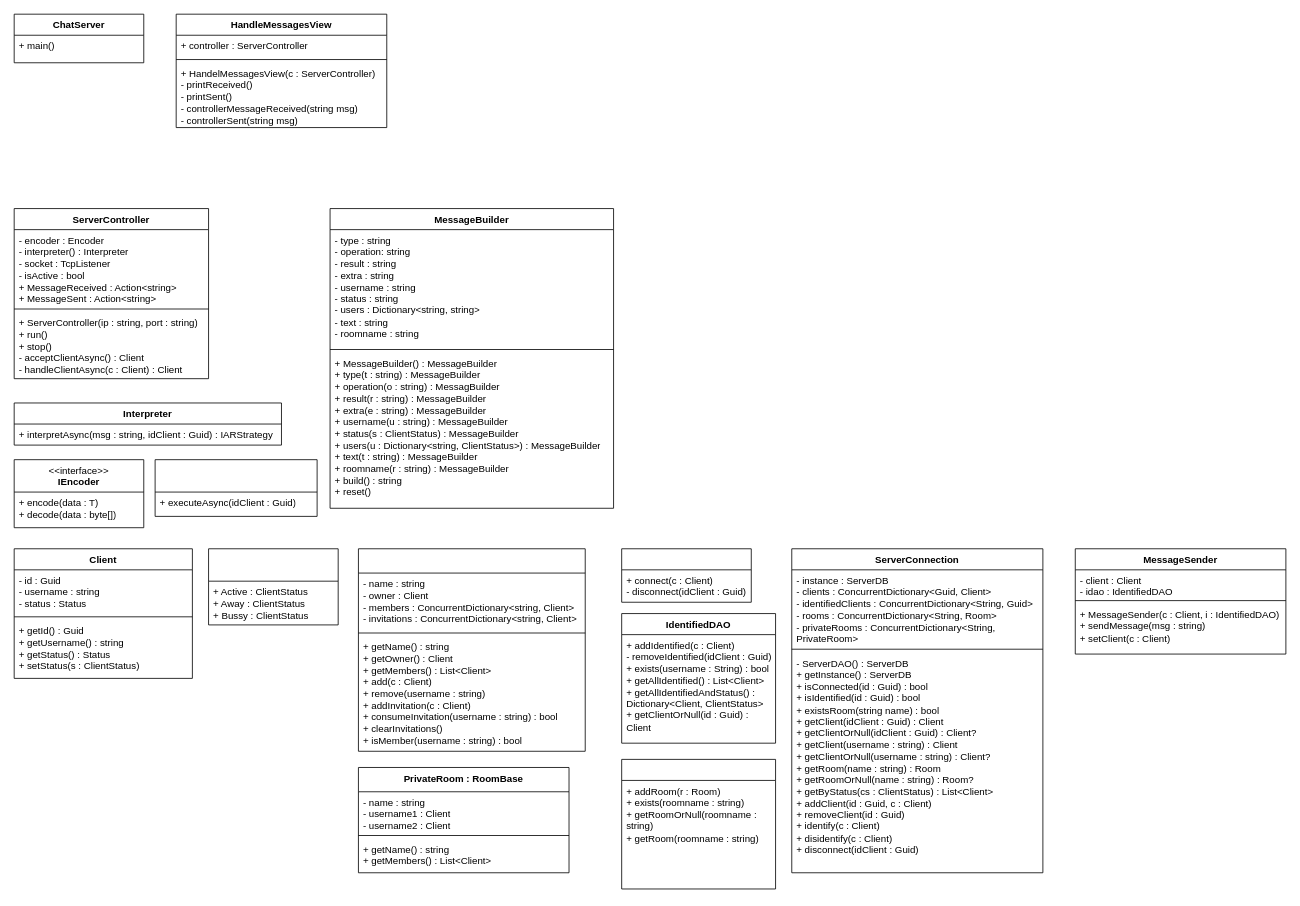
This 1300x906 diagram has some shape labels left out. The shapes that lost their labels are listed below. From the top down, each one's box as (x1, y1, x2, y2) in pixels, then its label:
(154, 459, 317, 516): <<interface>> IARStrategy
(208, 548, 338, 625): <<enum>> ClientStatus
(621, 548, 751, 602): ConnectionsDAO
(358, 548, 585, 751): Room : RoomBase
(621, 759, 776, 889): RoomsDAO
